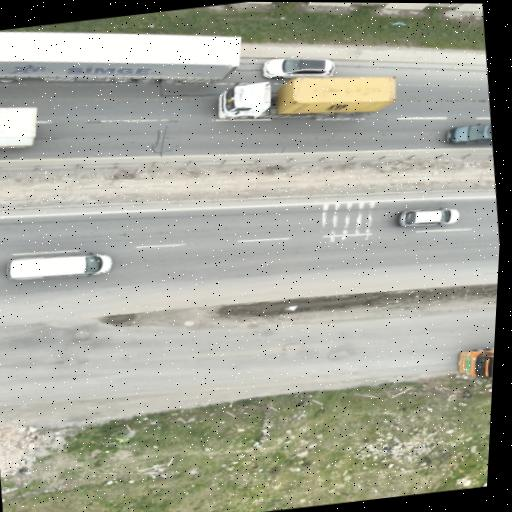car: (7, 254, 111, 279), (262, 58, 333, 79), (398, 208, 458, 226), (446, 125, 492, 145)
truck: (0, 32, 240, 83), (218, 77, 395, 120), (0, 108, 36, 148), (458, 349, 493, 379)
